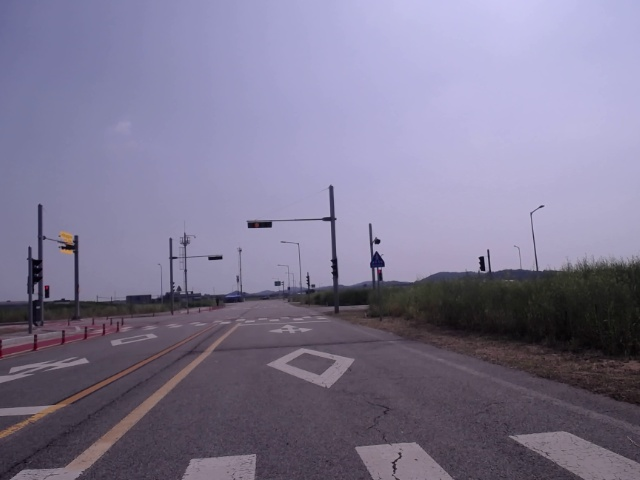orange_4: (250, 221, 274, 229)
